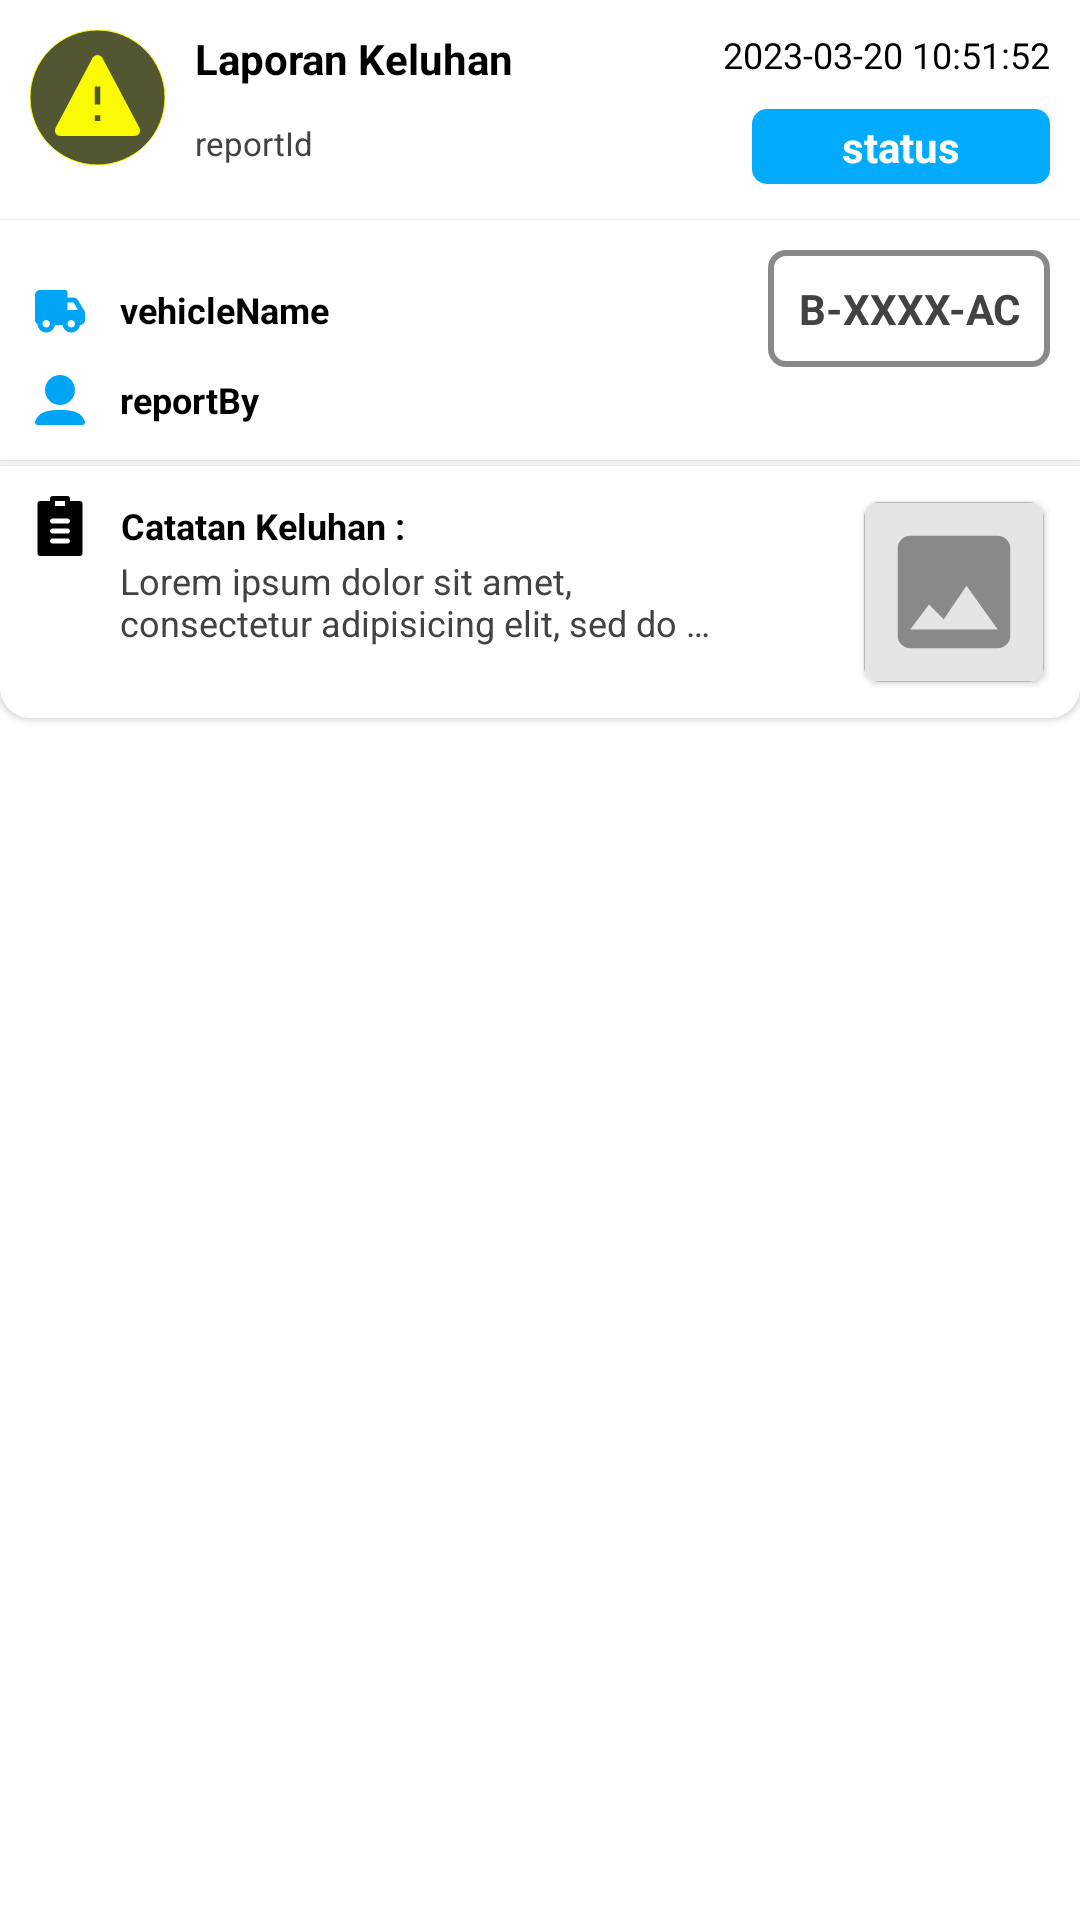

Named icons in this screenshot (1080x1920) and their bounding boxes, (x1, y1, x2, y2):
error info: (30, 30, 165, 165)
